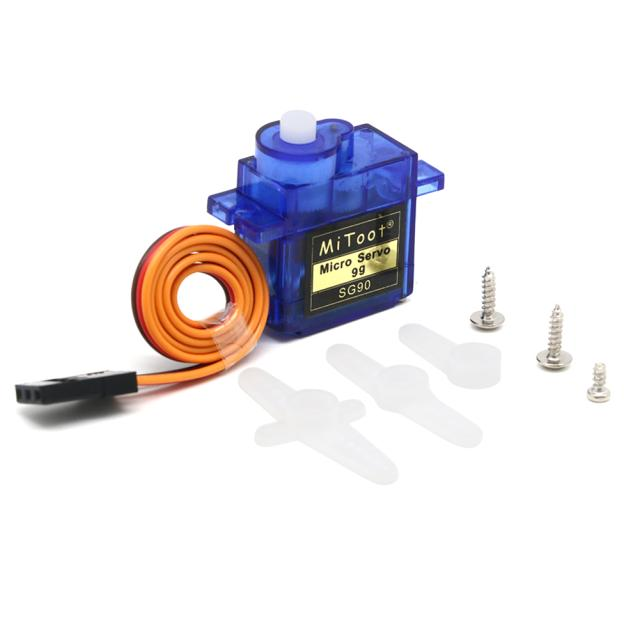motor: (208, 111, 447, 337)
